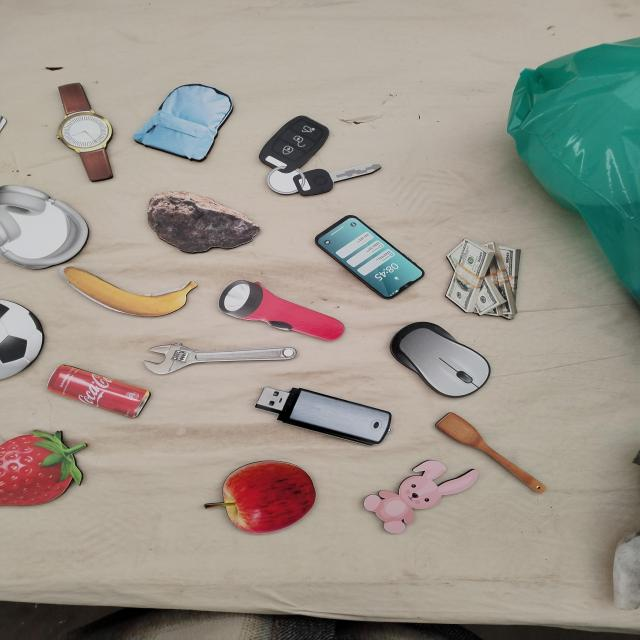Other Objects: (430, 408, 550, 502), (255, 117, 388, 200), (133, 68, 240, 171), (213, 275, 353, 344), (314, 214, 424, 300), (362, 459, 479, 534), (254, 386, 392, 447), (204, 460, 316, 535), (389, 320, 491, 398), (0, 183, 90, 270), (146, 190, 260, 253), (60, 266, 198, 317), (445, 238, 521, 319), (55, 81, 115, 182), (46, 364, 150, 418), (142, 342, 297, 375), (0, 298, 45, 380)
